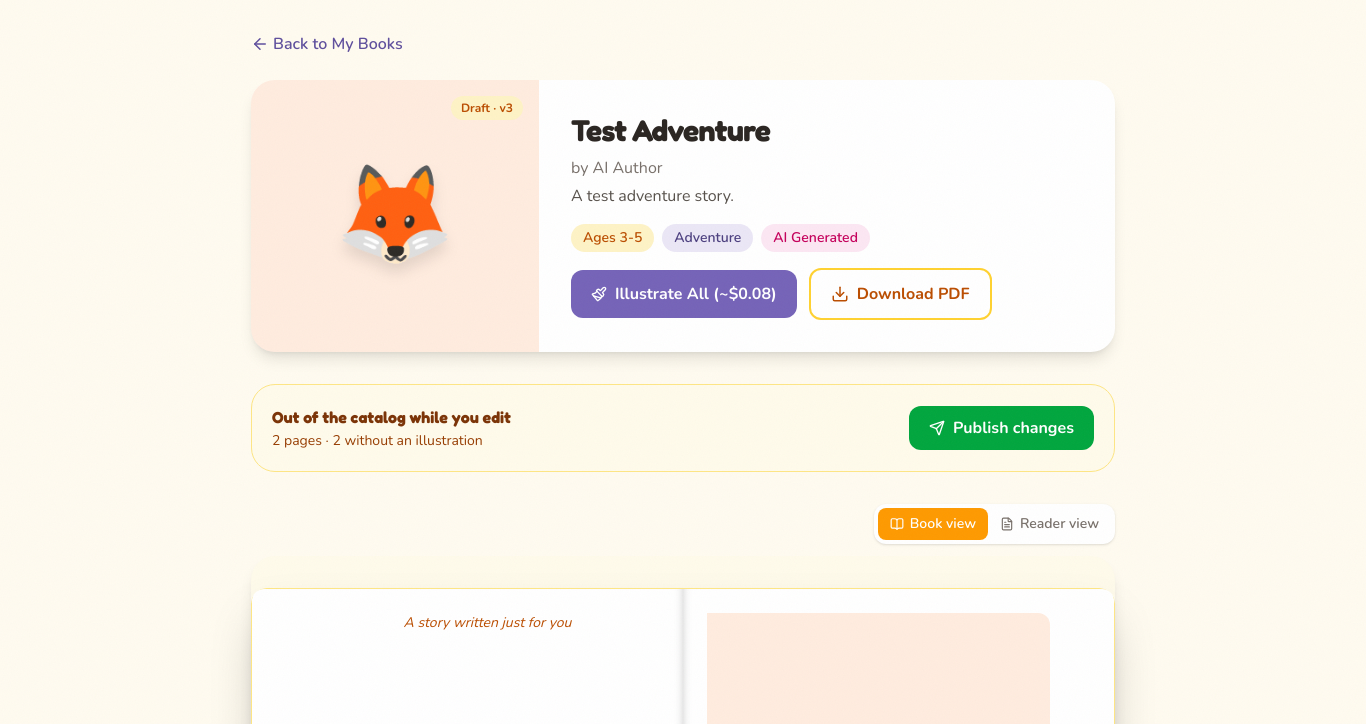
Scenario: BookDetail — Illustrate empty-response handling › falls back to a non-JSON body message when the server returns garbage
Click the button "Illustrate All (~$0.08)".
click(684, 294)  # box [571, 270, 797, 318]
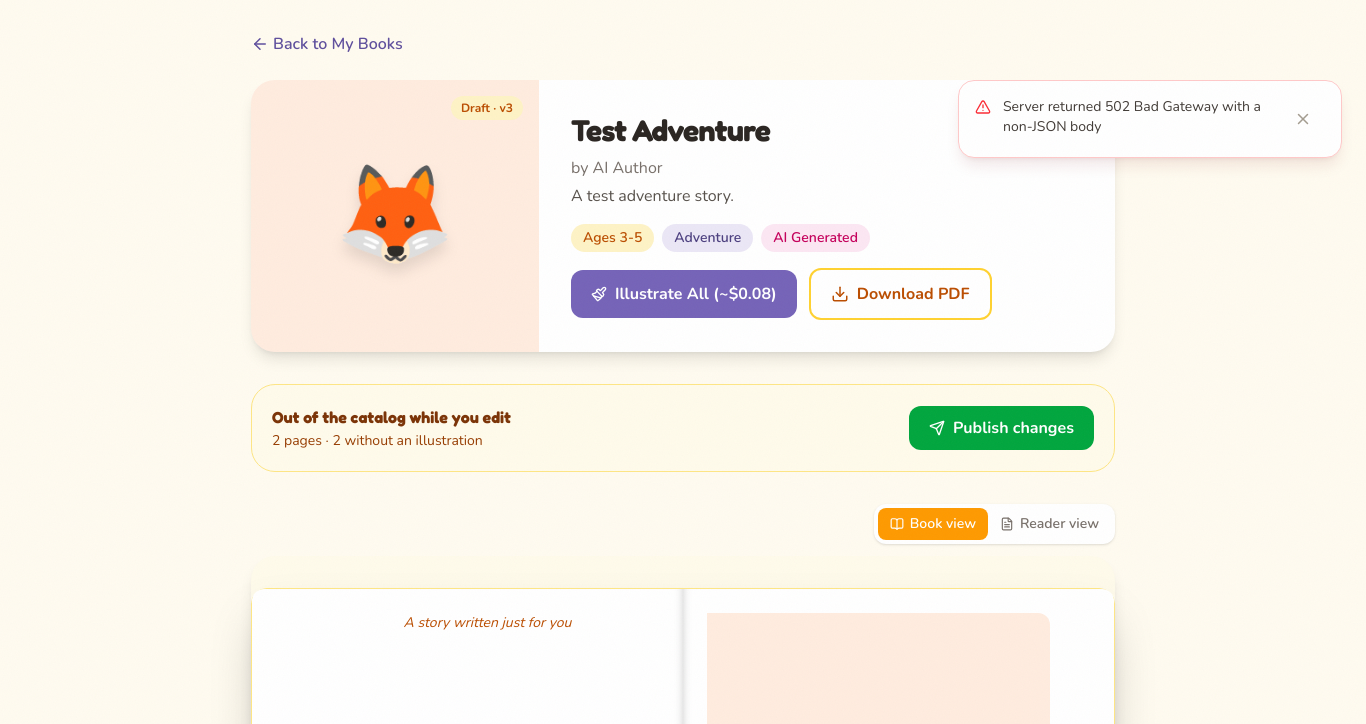
Now the text "Server returned 502 Bad Gateway with a non-JSON body" is shown, box [1003, 97, 1269, 137]
